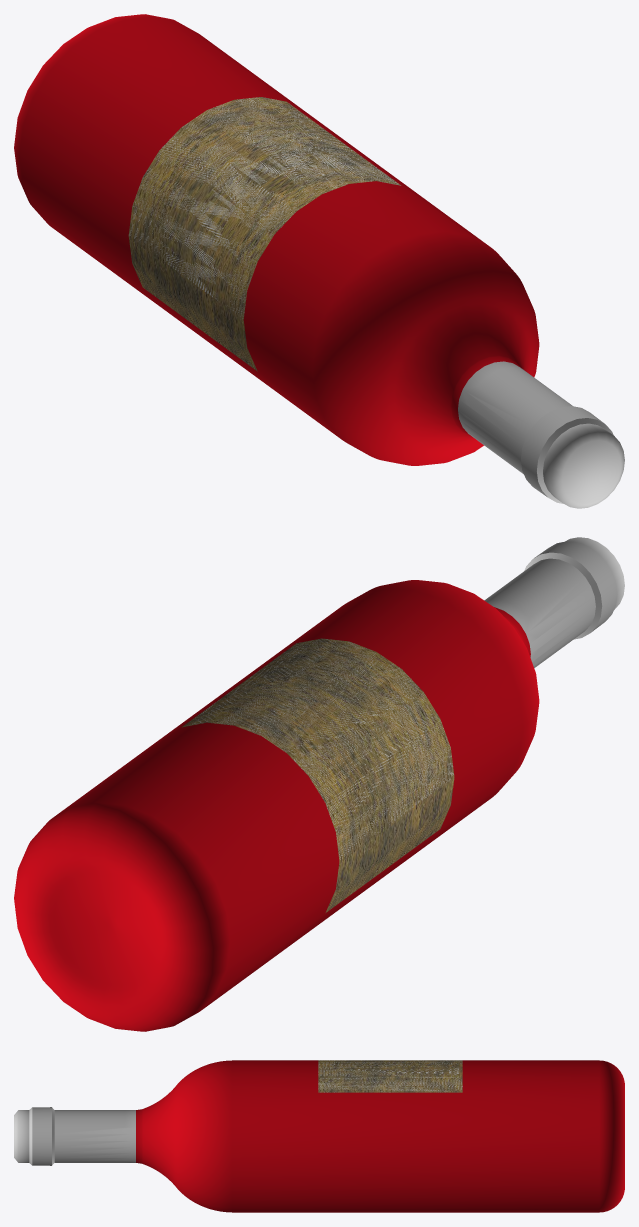
File: model_align.obj
3 renders of one model, top to bottom at view 1: azimuth 30°, elevation 25°; view 2: azimuth 150°, elevation 25°; view 3: azimuth 270°, elevation 25°, orthographic. The views are drawn at different scales.
Parts seen in each view (by area): view 1: mesh2_mesh2-geometry, mesh1_mesh1-geometry; view 2: mesh2_mesh2-geometry, mesh1_mesh1-geometry; view 3: mesh2_mesh2-geometry, mesh1_mesh1-geometry.
Part boxes in pixels (left/top/right/bottom): mesh2_mesh2-geometry: left=14, top=14, right=624, bottom=508; mesh1_mesh1-geometry: left=128, top=97, right=401, bottom=371; mesh2_mesh2-geometry: left=14, top=537, right=624, bottom=1031; mesh1_mesh1-geometry: left=182, top=638, right=454, bottom=912; mesh2_mesh2-geometry: left=14, top=1060, right=624, bottom=1212; mesh1_mesh1-geometry: left=318, top=1060, right=462, bottom=1092.
Size of the model in its own units: 0.0674 by 0.0674 by 0.2699.
